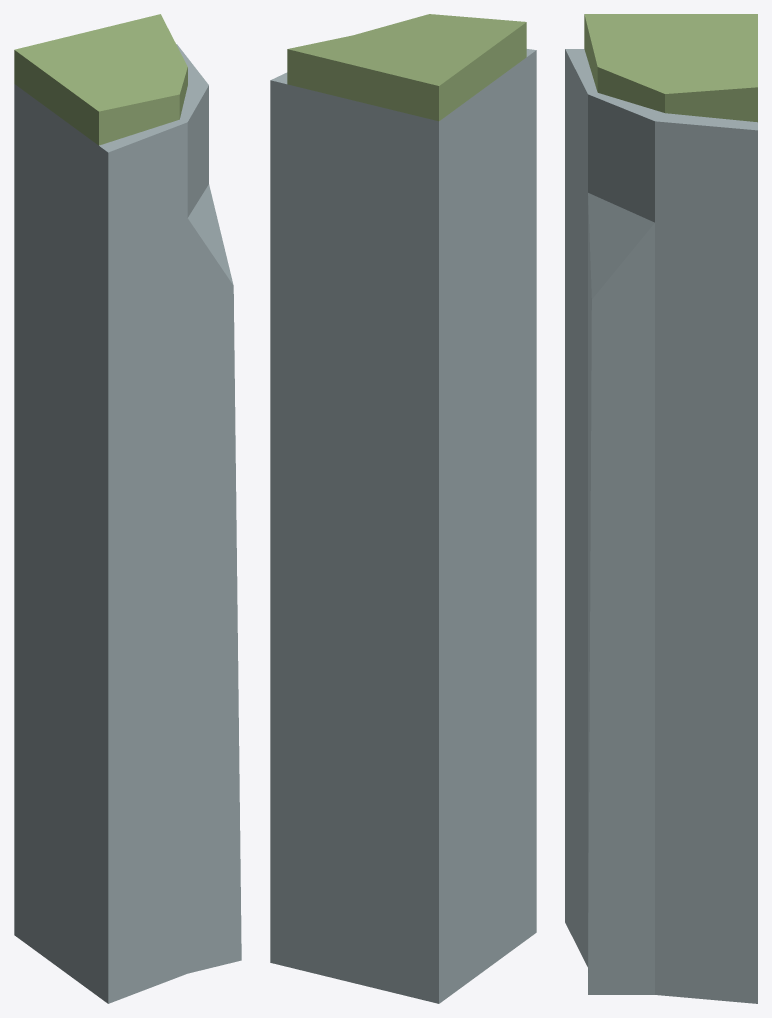
The model's file is Dual_Grid_L_W_W_W_01.fbx.
3 renders of one model, left to right at view 1: azimuth 30°, elevation 25°; view 2: azimuth 150°, elevation 25°; view 3: azimuth 270°, elevation 25°, orthographic. The views are drawn at different scales.
Parts seen in each view (by area): view 1: Tile_L_W_W_W_01; view 2: Tile_L_W_W_W_01; view 3: Tile_L_W_W_W_01.
Boxes of the visible parts, x1,y1,x2,y2 form: Tile_L_W_W_W_01: [14, 14, 241, 1003]; Tile_L_W_W_W_01: [270, 14, 536, 1003]; Tile_L_W_W_W_01: [565, 14, 757, 1003].
Size of the model in its own units: 50 by 50 by 260.
